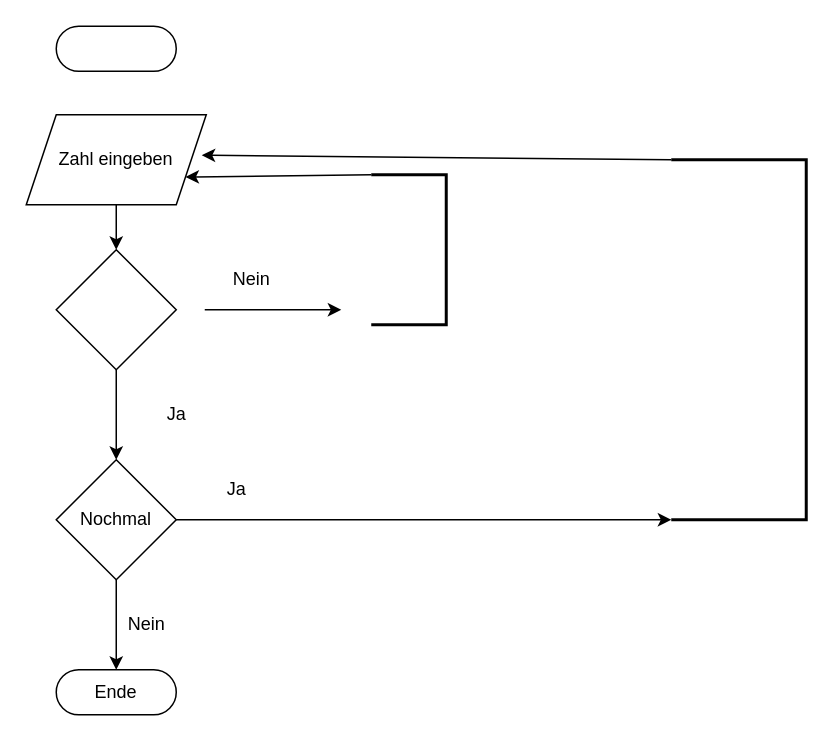
Some shapes in this 834 by 741 pixel diagram are drawn without their labels. Here are the shapes that lost their labels. From the top down, the centre of each, then its label:
At (x=115, y=48): "Start".
At (x=115, y=309): "RichtigeZahl?".
